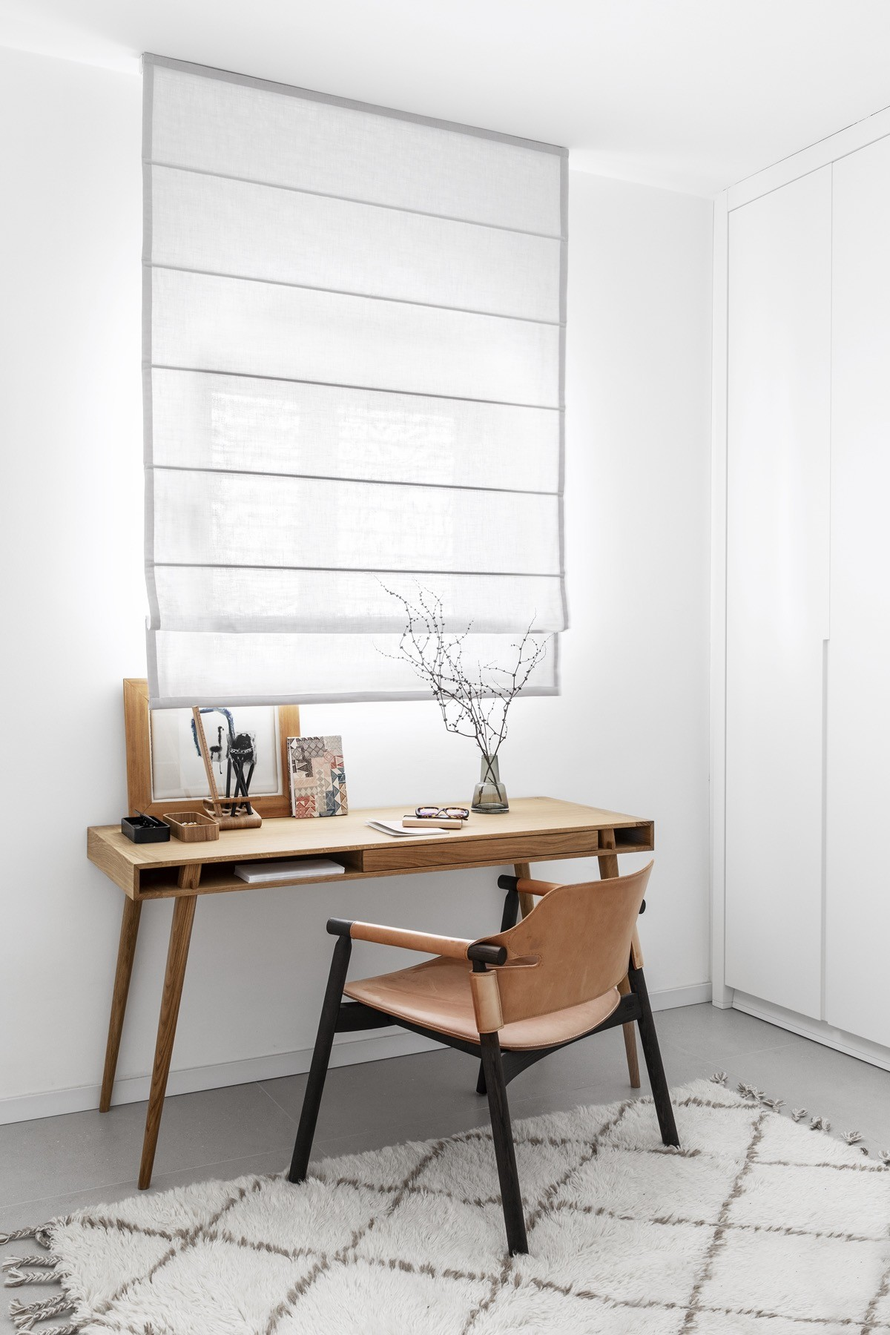not a gesture sign: (142, 59, 590, 813), (507, 254, 708, 987), (268, 1247, 456, 1334)
